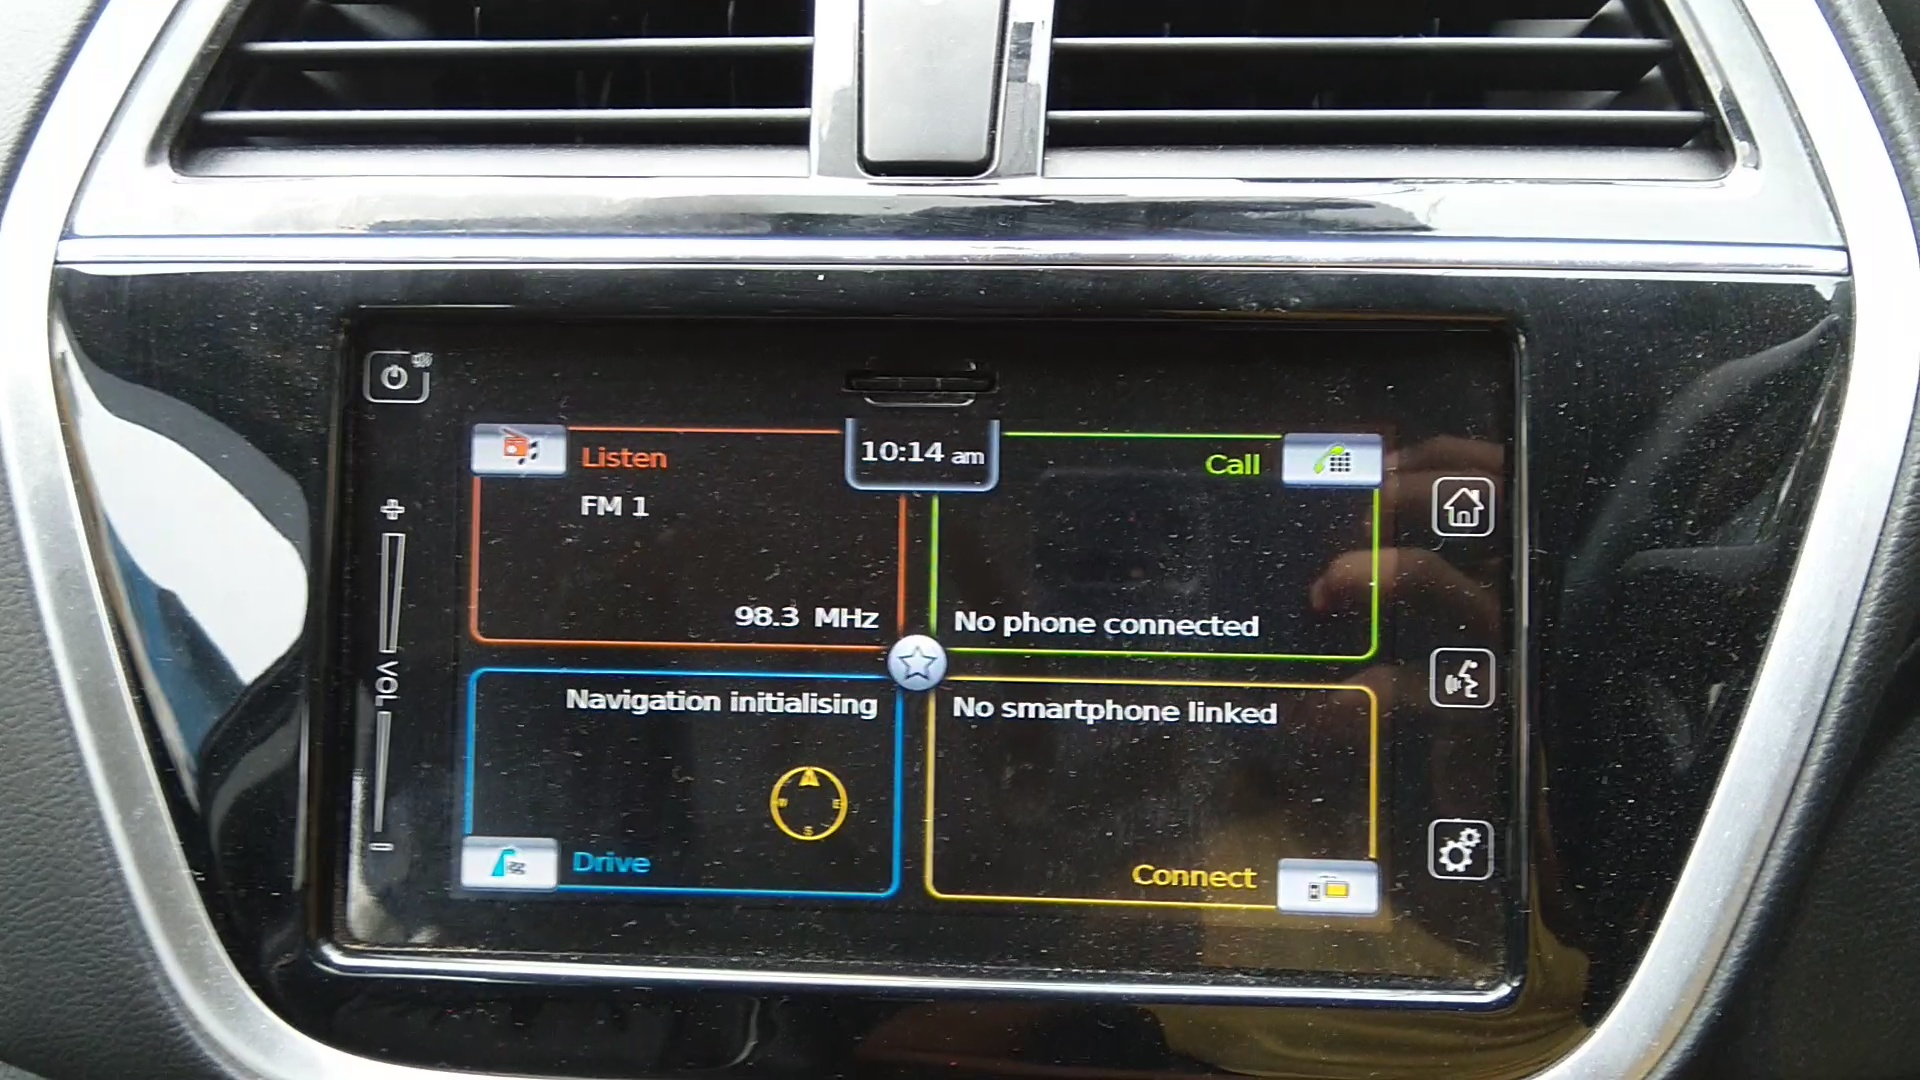touch_infotainment: (294, 285, 1584, 1002)
